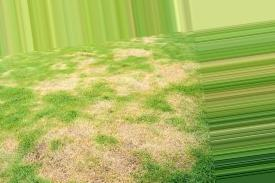patch: (39, 152, 117, 178), (134, 122, 184, 152), (48, 122, 123, 141), (43, 77, 85, 93), (113, 76, 151, 92), (89, 98, 115, 118), (163, 88, 185, 107), (116, 48, 148, 61), (77, 60, 101, 76), (2, 138, 22, 154), (1, 76, 18, 91), (162, 65, 177, 82)
